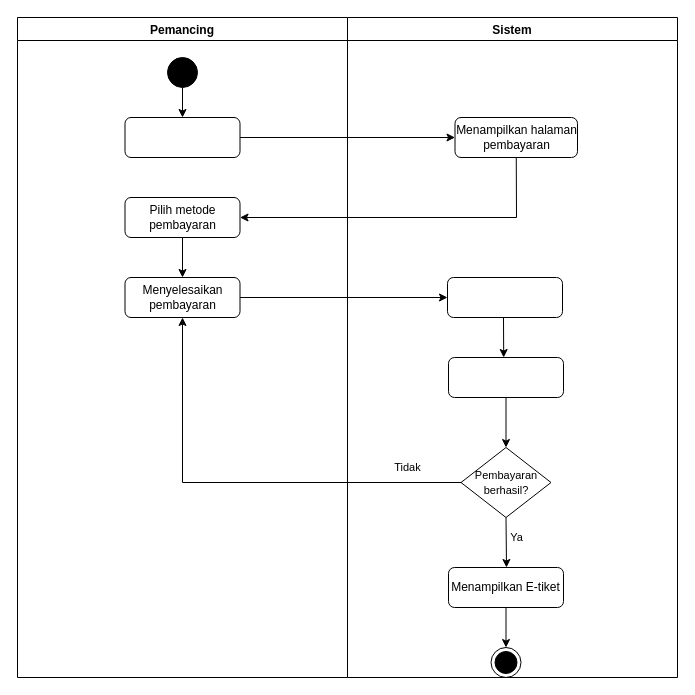
Some shapes in this 695 by 695 pixel diagram are drawn without their labels. Here are the shapes that lost their labels. From the top down, the centre of each, then its label:
At (182,137): "Masuk ke menu Pembayaran".
At (504,297): "Simpan data pembayaran".
At (506,377): "Menampilkan data detail pembayaran".
